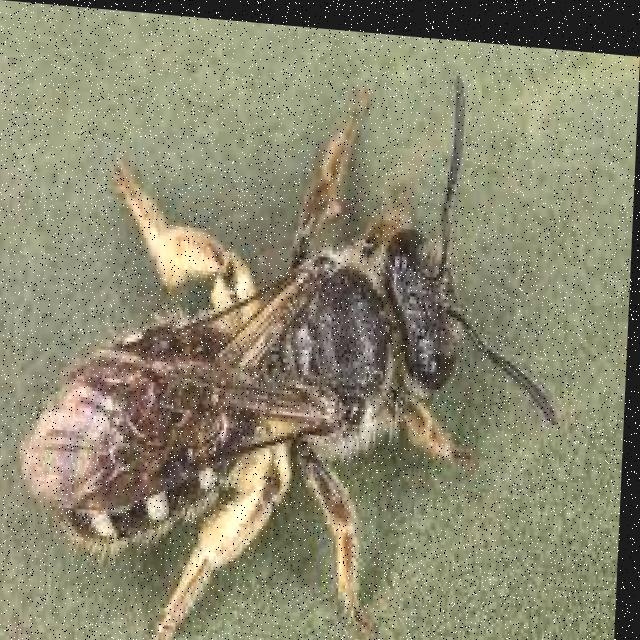Lasioglossum: (25, 56, 542, 640)
